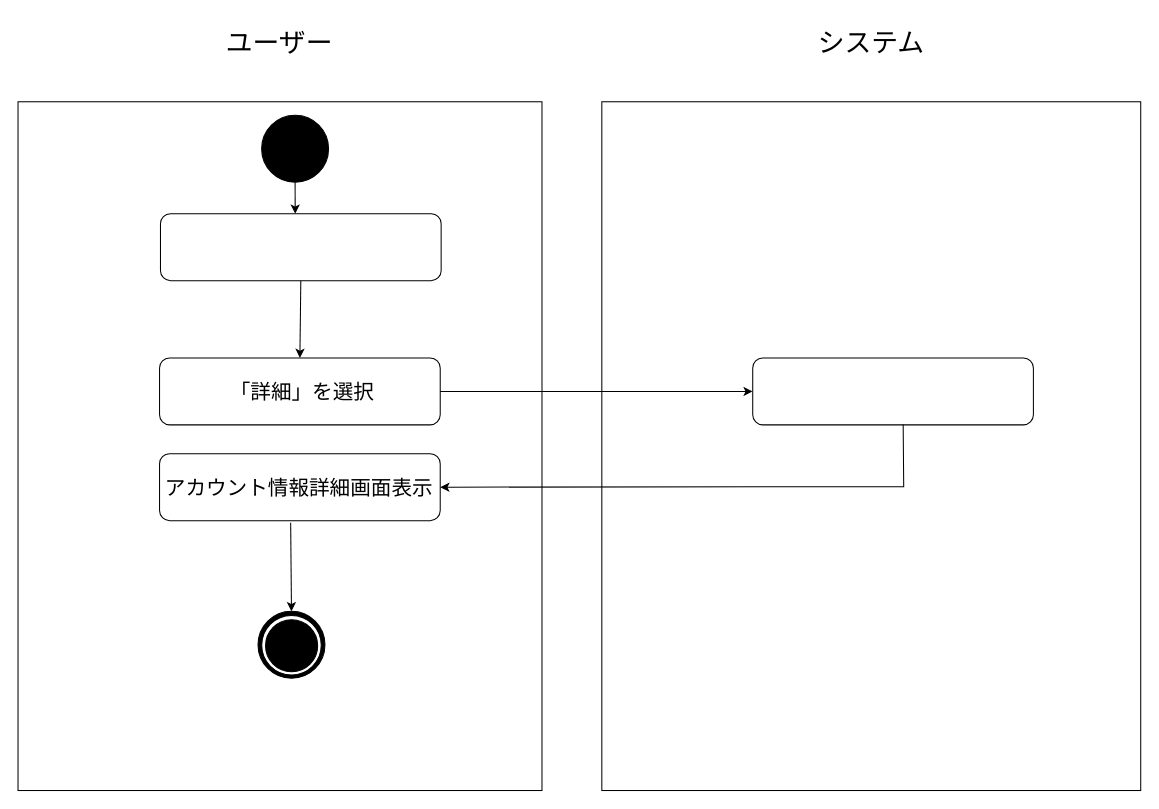
Some shapes in this 1159 by 809 pixel diagram are drawn without their labels. Each missing label, with the centre of its shape:
"アカウント情報詳細画面生成" belongs at [892,391].
"配達員アカウント一覧画面表示" belongs at [300,247].
